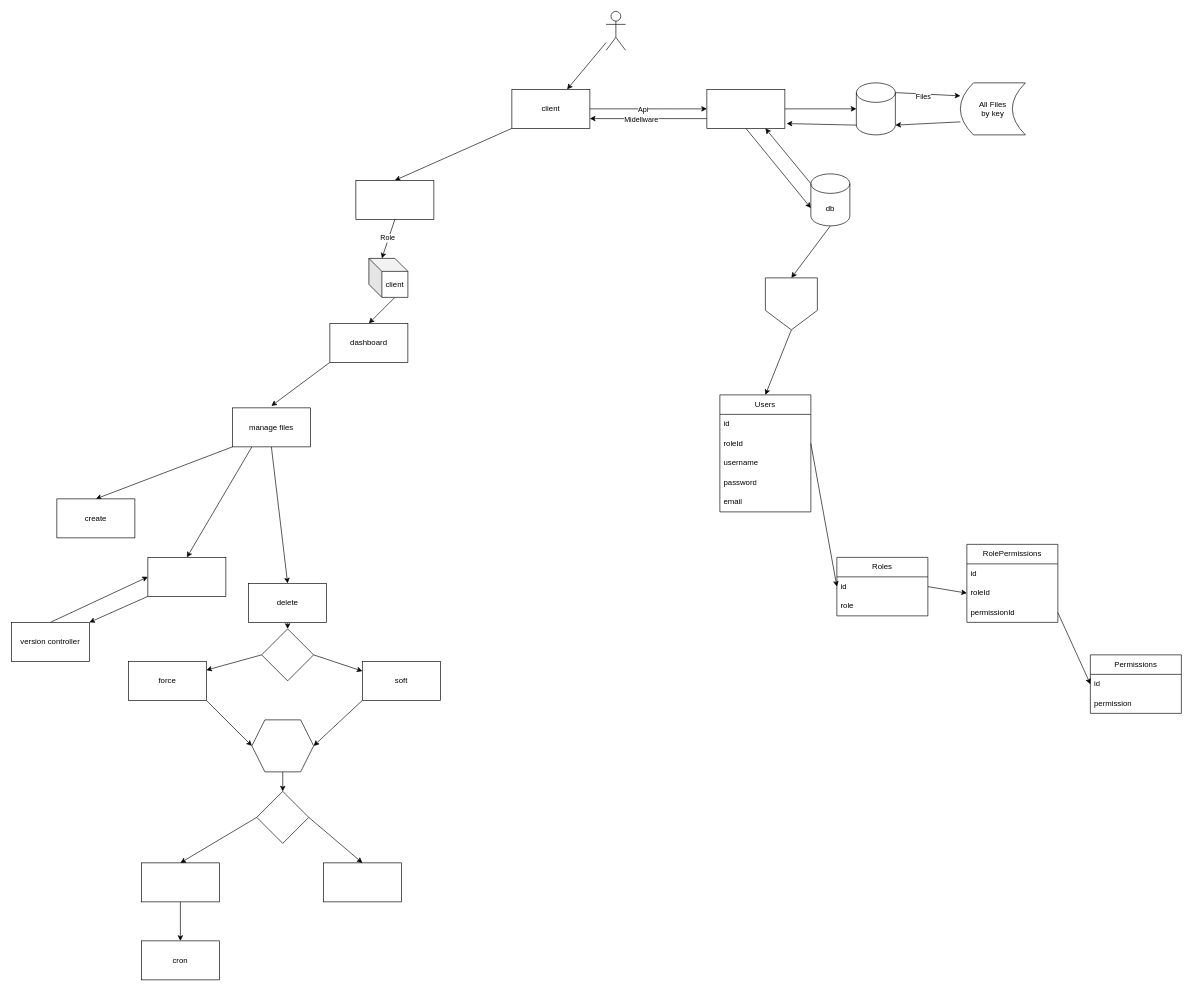
This 1193x991 diagram has some shape labels left out. Here are the shapes that lost their labels. From the top down, the centre of each, then its label:
At pixel 615 30: "Actor".
At pixel 745 108: "server".
At pixel 875 108: "S3".
At pixel 394 199: "Login".
At pixel 791 303: "tables".
At pixel 186 576: "update".
At pixel 180 882: "auto".
At pixel 362 882: "manual".
